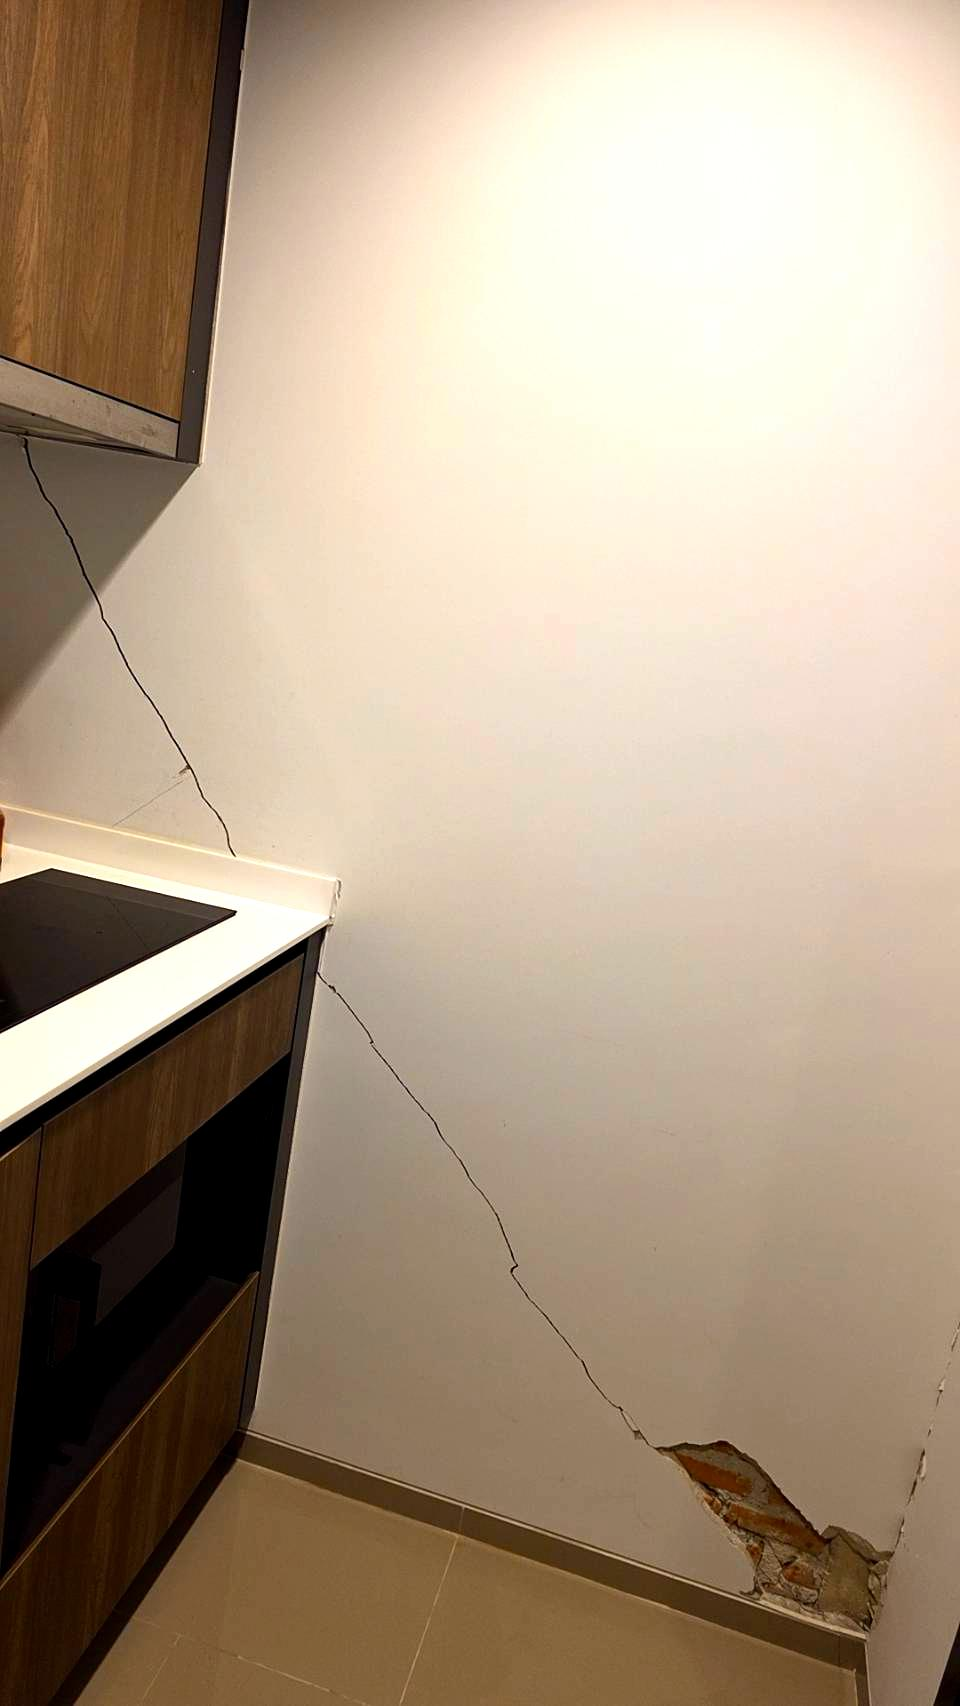High: (1, 419, 949, 1676)
